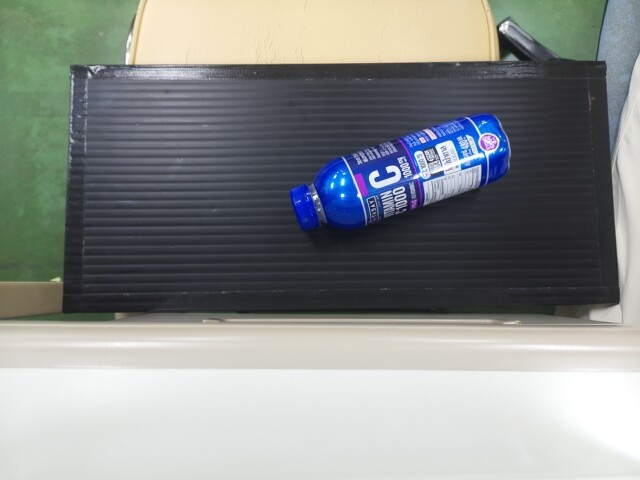plastic_bottle: (287, 140, 450, 228)
